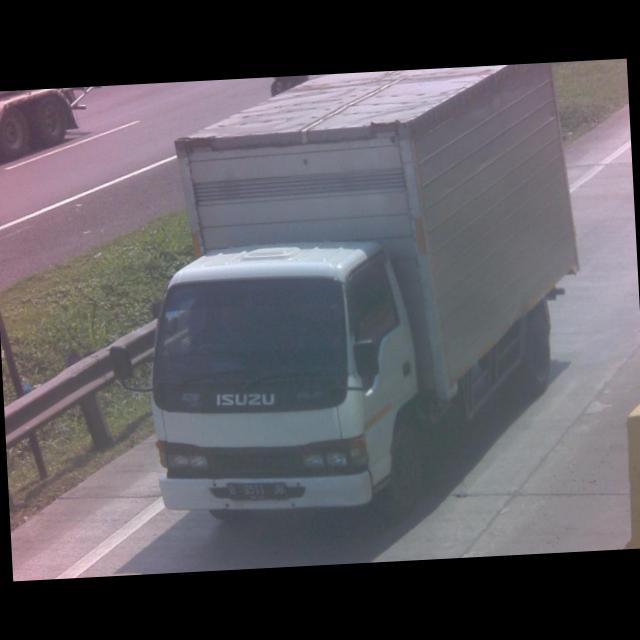plate: (223, 478, 291, 505)
